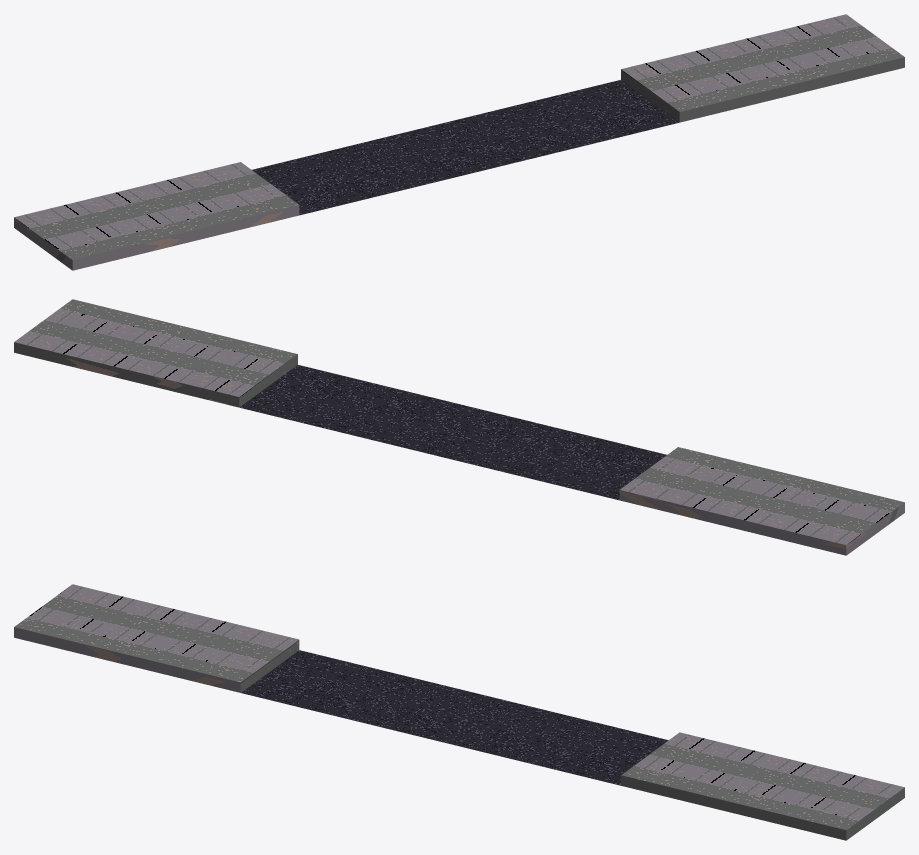
File: road_1_mesh.glb
The picture shows the model from 3 angles, top to bottom: view 1: azimuth 30°, elevation 25°; view 2: azimuth 150°, elevation 25°; view 3: azimuth 330°, elevation 25°; orthographic projection.
Parts seen in each view (by area): view 1: Plane; view 2: Plane; view 3: Plane.
Part boxes in pixels (x1,y1,x2,y2): Plane: [14, 14, 904, 270]; Plane: [14, 299, 904, 555]; Plane: [14, 584, 904, 840].
Bounding box in the file's own units: 16.39 × 0.1987 × 2.
Materials: 1 (1 with a texture image).
